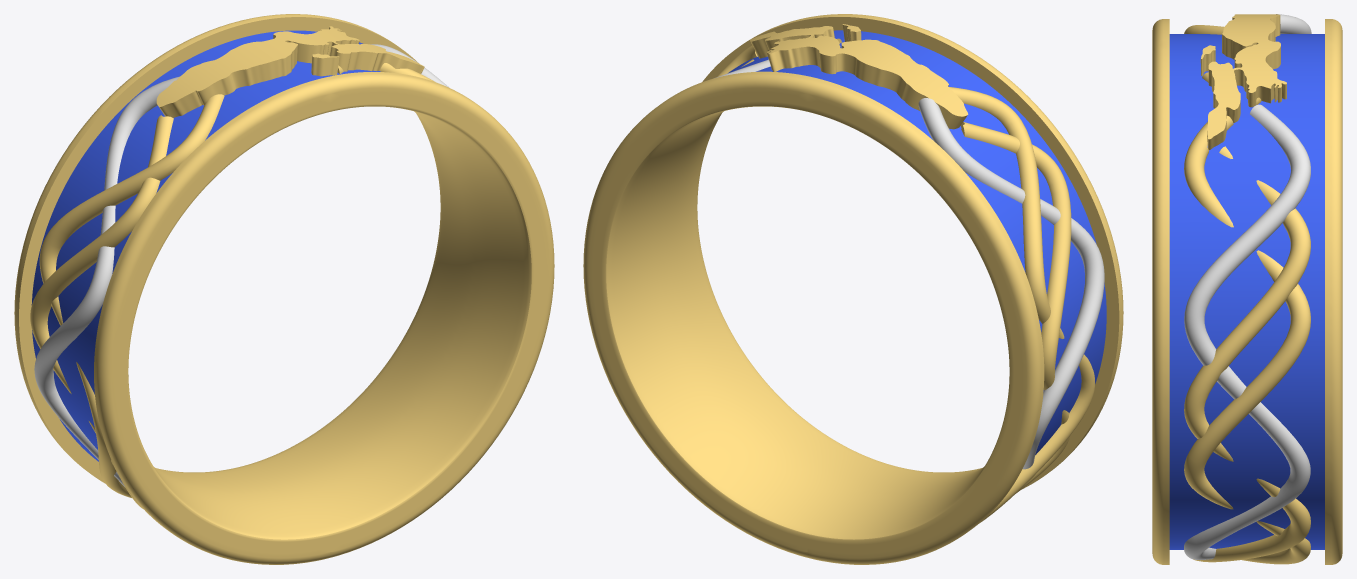
The model's file is SaraYGjamestownwbNEW.glb.
3 views of the same model, side by side, from view 1: azimuth 30°, elevation 25°; view 2: azimuth 150°, elevation 25°; view 3: azimuth 270°, elevation 25° (orthographic). The views are drawn at different scales.
Visible parts, largest first — view 1: Sara YG for 3d model, Sara black for 3d model, Sara YG vines for 3d model; view 2: Sara YG for 3d model, Sara black for 3d model, Sara YG vines for 3d model; view 3: Sara black for 3d model, Sara YG for 3d model, Sara YG vines for 3d model.
Part boxes in pixels (x1,y1,x2,y2): Sara YG for 3d model: (14,14,554,564); Sara black for 3d model: (31,30,380,461); Sara YG vines for 3d model: (34,44,449,486); Sara YG for 3d model: (583,14,1123,564); Sara black for 3d model: (728,30,1106,454); Sara YG vines for 3d model: (714,59,1104,469); Sara black for 3d model: (1169,34,1324,549); Sara YG for 3d model: (1152,14,1342,564); Sara YG vines for 3d model: (1184,14,1311,560).
Bounding box in the file's own units: 24.73 × 24.66 × 8.5.
